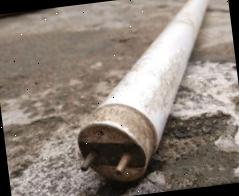lightbulb: (59, 0, 232, 187)
